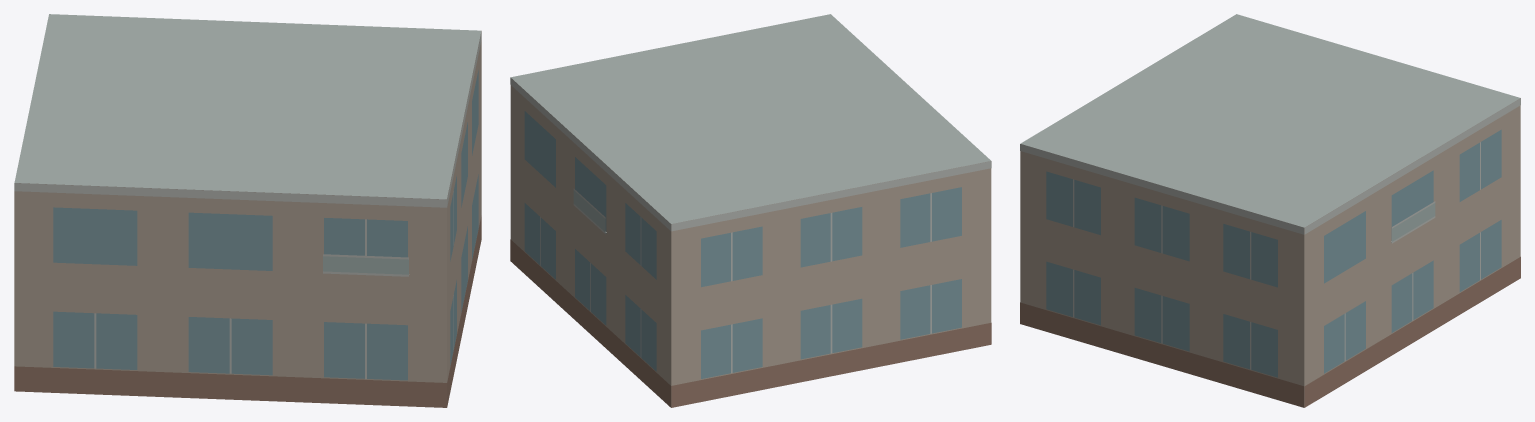
The model's file is survey-upis-32990299.glb.
3 renders of one model, left to right at view 1: azimuth 30°, elevation 25°; view 2: azimuth 150°, elevation 25°; view 3: azimuth 270°, elevation 25°, orthographic. The views are drawn at different scales.
Parts seen in each view (by area): view 1: survey-upis-32990299.tmp; view 2: survey-upis-32990299.tmp; view 3: survey-upis-32990299.tmp.
Part boxes in pixels (left/top/right/bottom): survey-upis-32990299.tmp: left=14, top=14, right=481, bottom=407; survey-upis-32990299.tmp: left=510, top=14, right=991, bottom=407; survey-upis-32990299.tmp: left=1020, top=14, right=1520, bottom=407.
Size of the model in its own units: 15.52 by 6.1 by 15.36.
